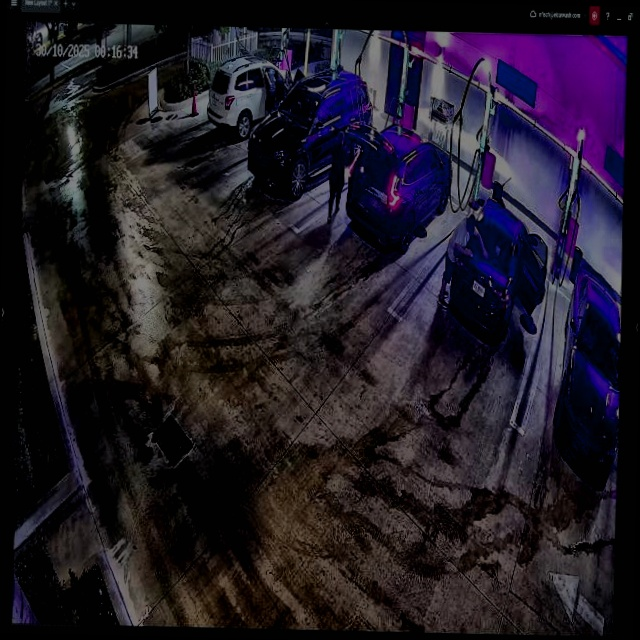Car: (433, 191, 549, 336), (249, 66, 372, 194), (346, 120, 453, 250)
